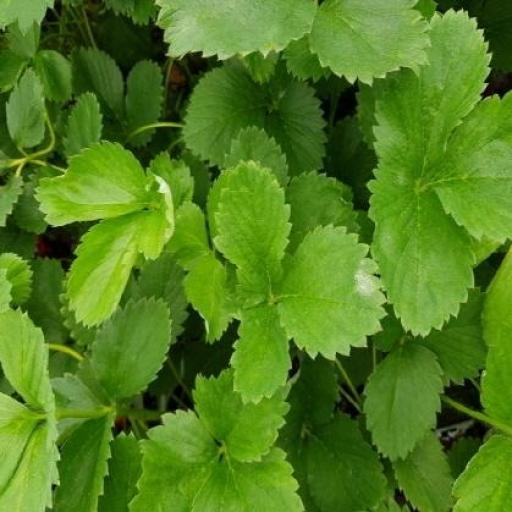Powdery Mildew Leaf: (276, 221, 390, 360), (134, 174, 175, 261)
